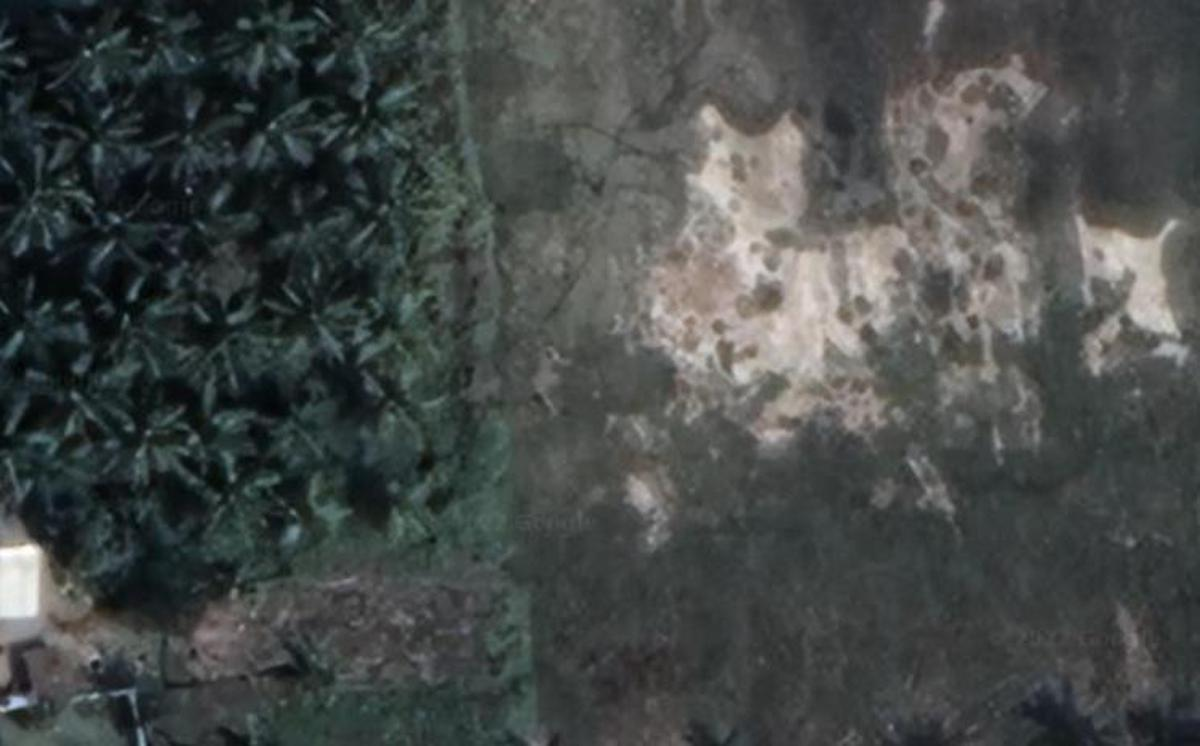coconut: (65, 274, 196, 387), (162, 184, 281, 282), (1, 143, 88, 252), (267, 186, 376, 266), (349, 355, 442, 446), (48, 347, 136, 443), (270, 278, 368, 364), (149, 90, 242, 178), (61, 78, 149, 168), (0, 430, 101, 508), (45, 8, 135, 94), (183, 454, 271, 541), (184, 297, 263, 389), (236, 101, 331, 176), (82, 188, 160, 279), (363, 466, 458, 540), (337, 78, 426, 154), (365, 278, 458, 350), (119, 401, 197, 483), (0, 273, 77, 355), (236, 8, 321, 81), (133, 0, 212, 72), (326, 0, 405, 67), (191, 408, 265, 472), (270, 387, 332, 454), (6, 91, 65, 154)
